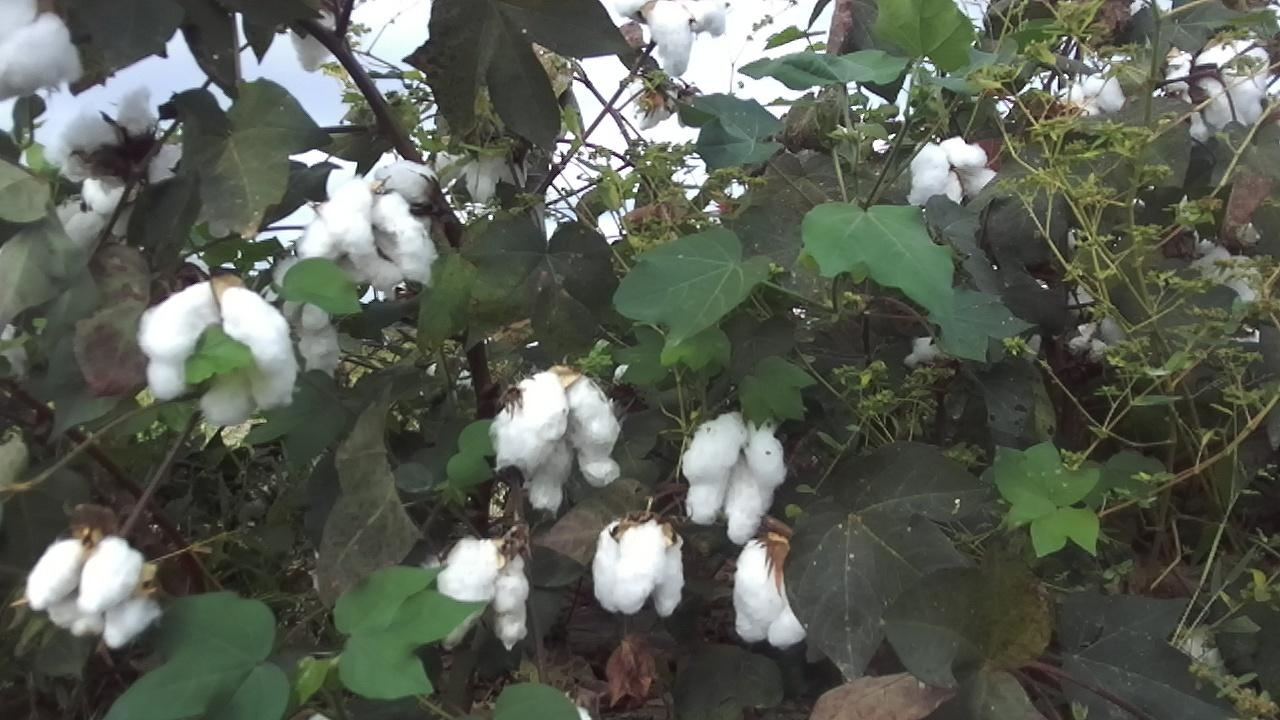cotton_ready: (140, 277, 299, 421), (488, 370, 624, 518), (24, 535, 164, 648), (59, 84, 179, 213), (303, 184, 434, 289), (685, 415, 787, 542), (427, 542, 530, 652), (593, 520, 685, 617), (0, 0, 82, 104), (733, 540, 812, 647), (617, 0, 724, 75), (257, 283, 342, 377), (1194, 239, 1262, 346), (1199, 37, 1269, 133), (908, 137, 999, 207), (444, 146, 532, 207), (56, 190, 137, 246), (1058, 70, 1125, 119), (626, 77, 687, 130), (290, 4, 337, 72), (372, 162, 440, 205)
